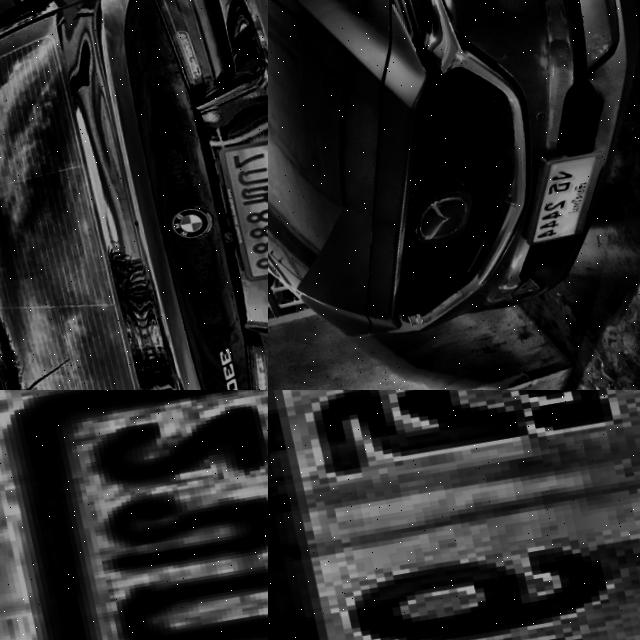license-plate: (268, 390, 640, 640), (0, 390, 268, 640), (505, 147, 617, 249), (207, 131, 268, 284)
